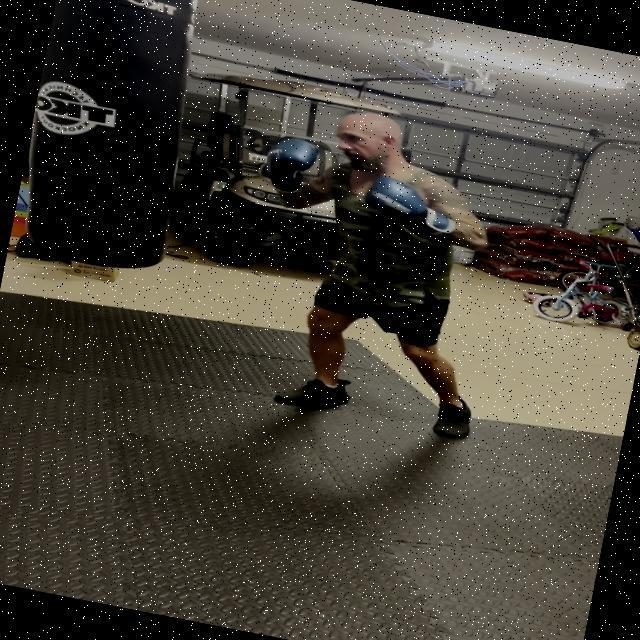bag: (7, 0, 210, 283)
no punch: (248, 92, 502, 264)
